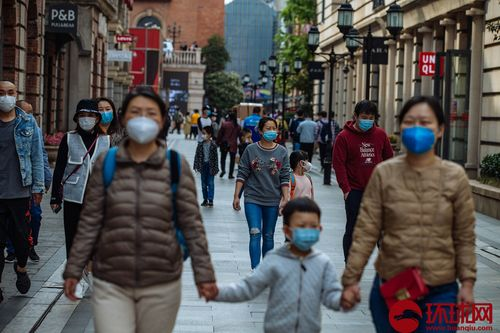mask: (398, 100, 440, 152), (123, 94, 163, 143), (287, 205, 324, 253), (77, 108, 98, 130), (357, 106, 374, 133), (262, 117, 280, 142), (1, 83, 17, 111)
